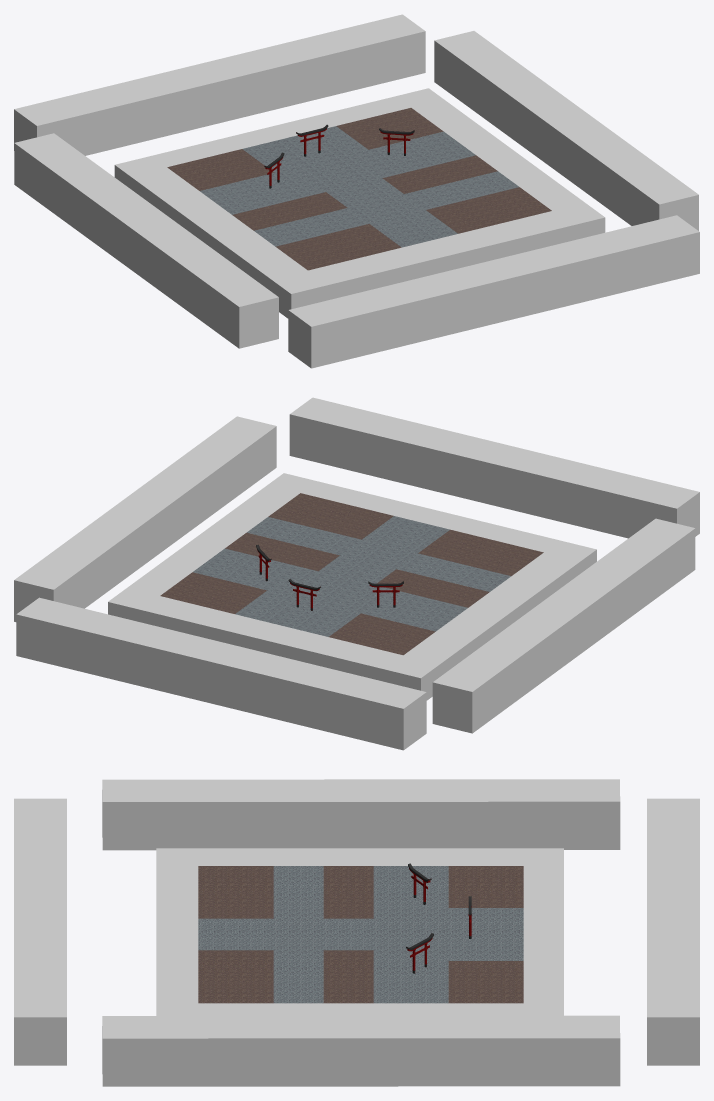
The model's file is area.gltf.
3 views of the same model, one above another, from view 1: azimuth 30°, elevation 25°; view 2: azimuth 150°, elevation 25°; view 3: azimuth 270°, elevation 25° (orthographic). The views are drawn at different scales.
Parts seen in each view (by area): view 1: COL001, COL002, COL003, COL005, COL004; view 2: COL001, COL003, COL002, COL005, COL004; view 3: COL004, COL005, COL001, COL002, COL003.
Part boxes in pixels (left/top/right/bottom): COL001: left=114, top=88, right=605, bottom=318; COL002: left=288, top=215, right=699, bottom=368; COL003: left=14, top=14, right=425, bottom=155; COL005: left=14, top=133, right=278, bottom=348; COL004: left=434, top=31, right=698, bottom=230; COL001: left=108, top=473, right=596, bottom=700; COL003: left=16, top=597, right=426, bottom=750; COL002: left=289, top=397, right=699, bottom=538; COL005: left=432, top=518, right=695, bottom=733; COL004: left=14, top=416, right=276, bottom=621; COL004: left=102, top=1015, right=620, bottom=1086; COL005: left=102, top=779, right=620, bottom=850; COL001: left=156, top=848, right=563, bottom=1015; COL002: left=14, top=798, right=66, bottom=1065; COL003: left=647, top=798, right=699, bottom=1065.
Bounding box in the file's own units: 23.11 × 2.61 × 25.84.
77 materials, 77 textured.
